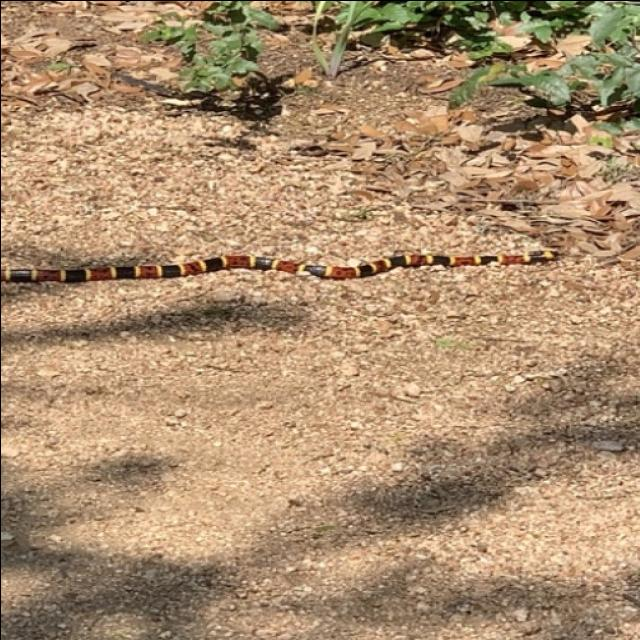snake: (0, 206, 568, 312)
